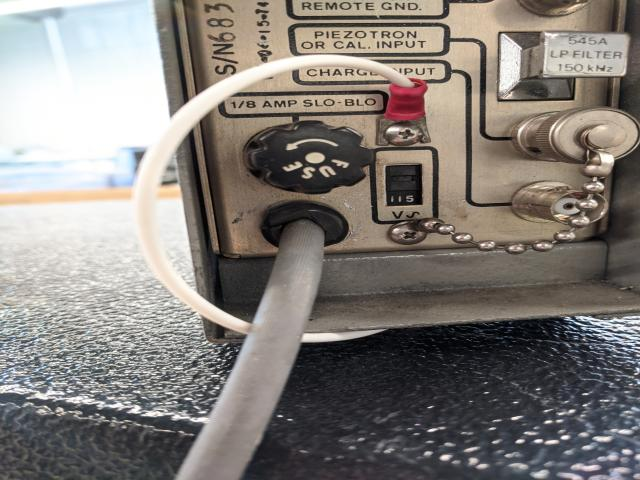CRS: (388, 222, 427, 245), (386, 123, 424, 145)
